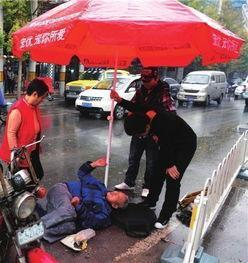Fall-Detected: (36, 154, 133, 248)
